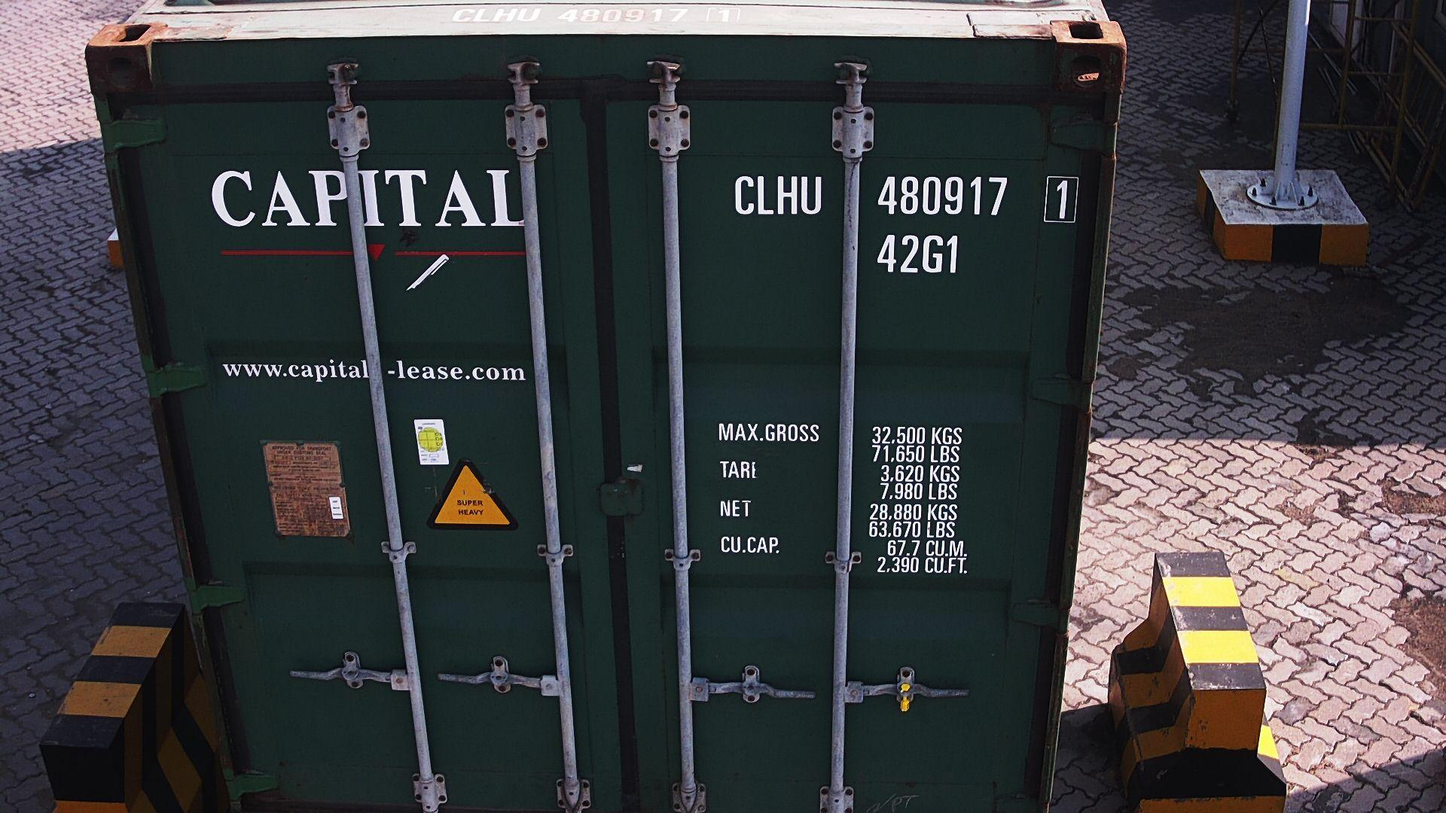container-numbers: (729, 170, 1084, 226), (448, 2, 746, 27), (874, 230, 965, 277)
